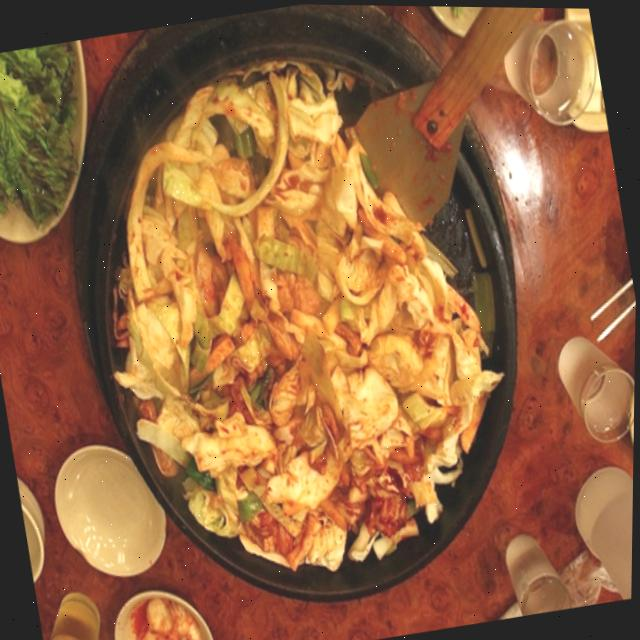鸡肉料理 含炸鸡: (53, 9, 565, 621)
